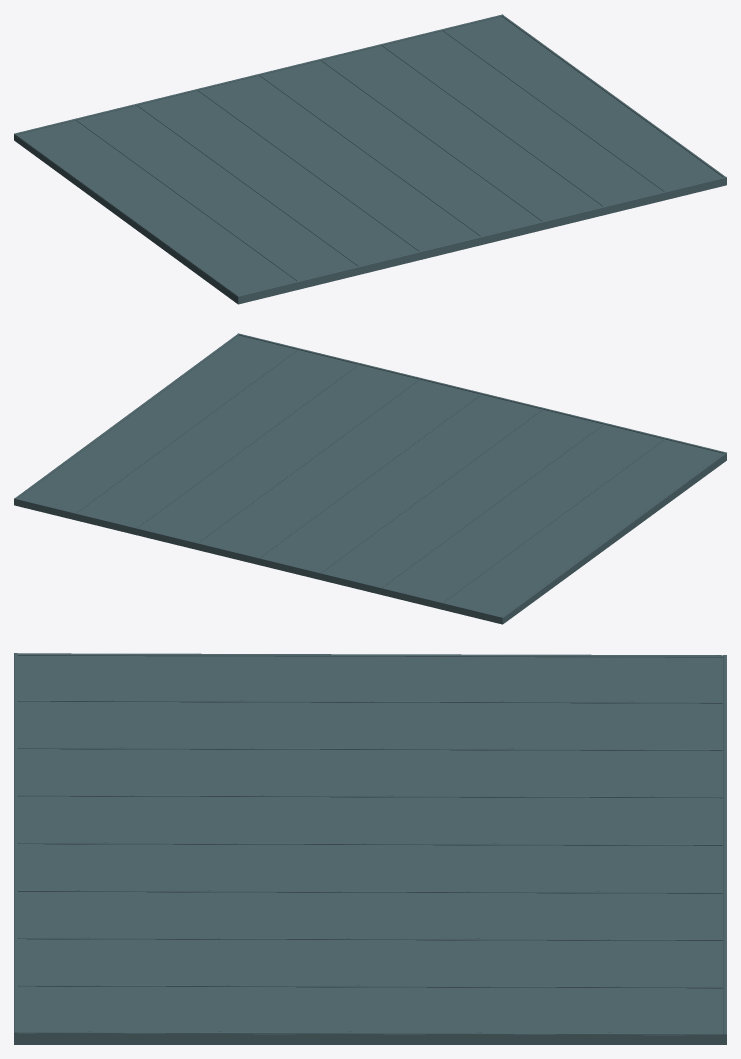
Rendered from roof-surface.glb.
3 views of the same model, one above another, from view 1: azimuth 30°, elevation 25°; view 2: azimuth 150°, elevation 25°; view 3: azimuth 270°, elevation 25° (orthographic). The views are drawn at different scales.
Parts seen in each view (by area): view 1: Roof weather surface with rearward fall.001; view 2: Roof weather surface with rearward fall.001; view 3: Roof weather surface with rearward fall.001.
Boxes of the visible parts, left/top/right/bottom form: Roof weather surface with rearward fall.001: left=14, top=14, right=726, bottom=304; Roof weather surface with rearward fall.001: left=14, top=333, right=726, bottom=624; Roof weather surface with rearward fall.001: left=14, top=653, right=726, bottom=1044.
Size of the model in its own units: 8.9 by 0.1399 by 7.07.
